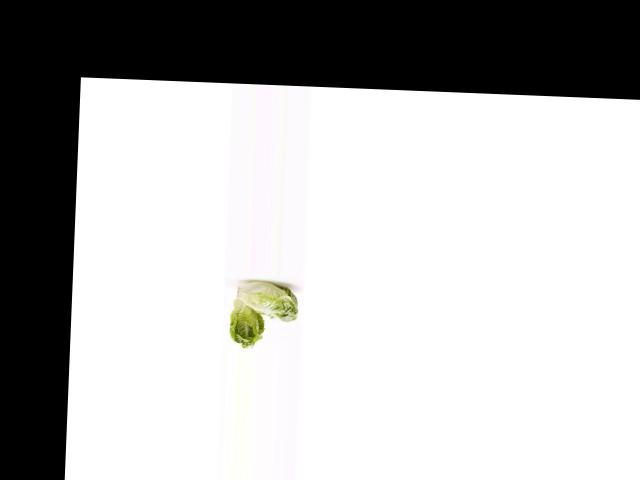lettuce: (231, 277, 303, 326)
